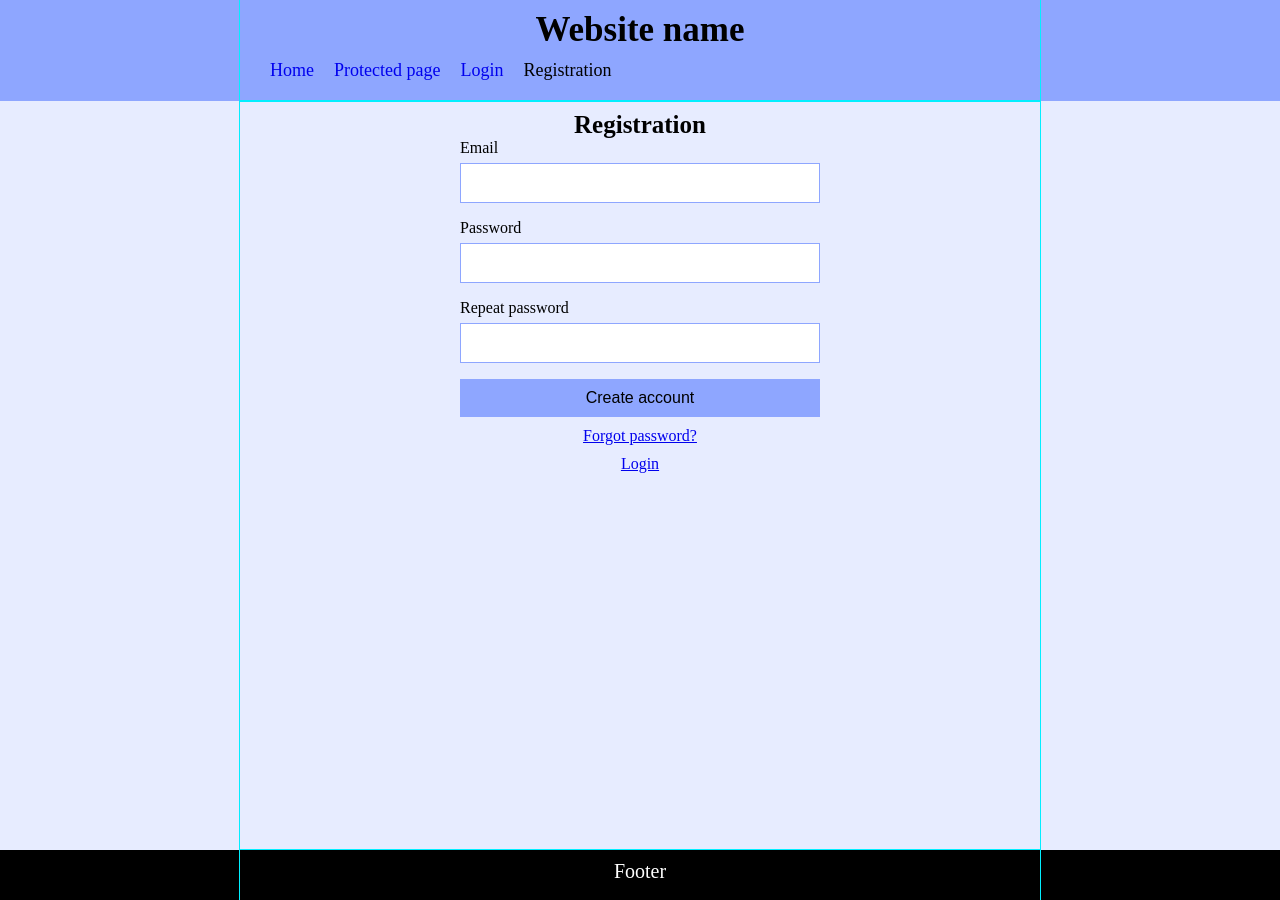
Test: registration confirms the code, signs in, and opens the protected profile
This screenshot has width=1280, height=900.
Step 1. Type "user@example.com" into the field labelled "Email" → (640, 183), box [460,163,820,203]
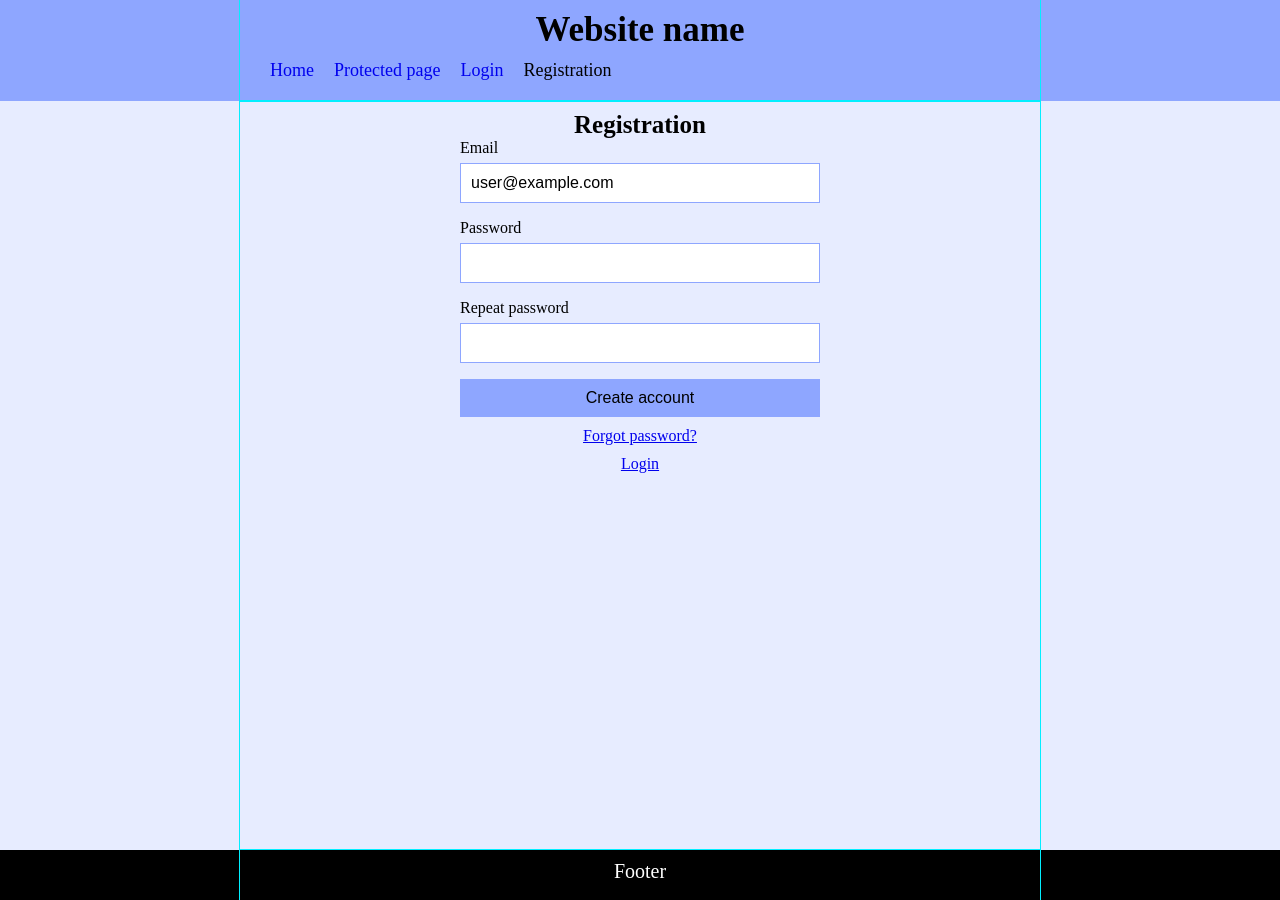
Step 2. Type "password12345" into the password field labelled "Password" → (640, 263), box [460,243,820,283]
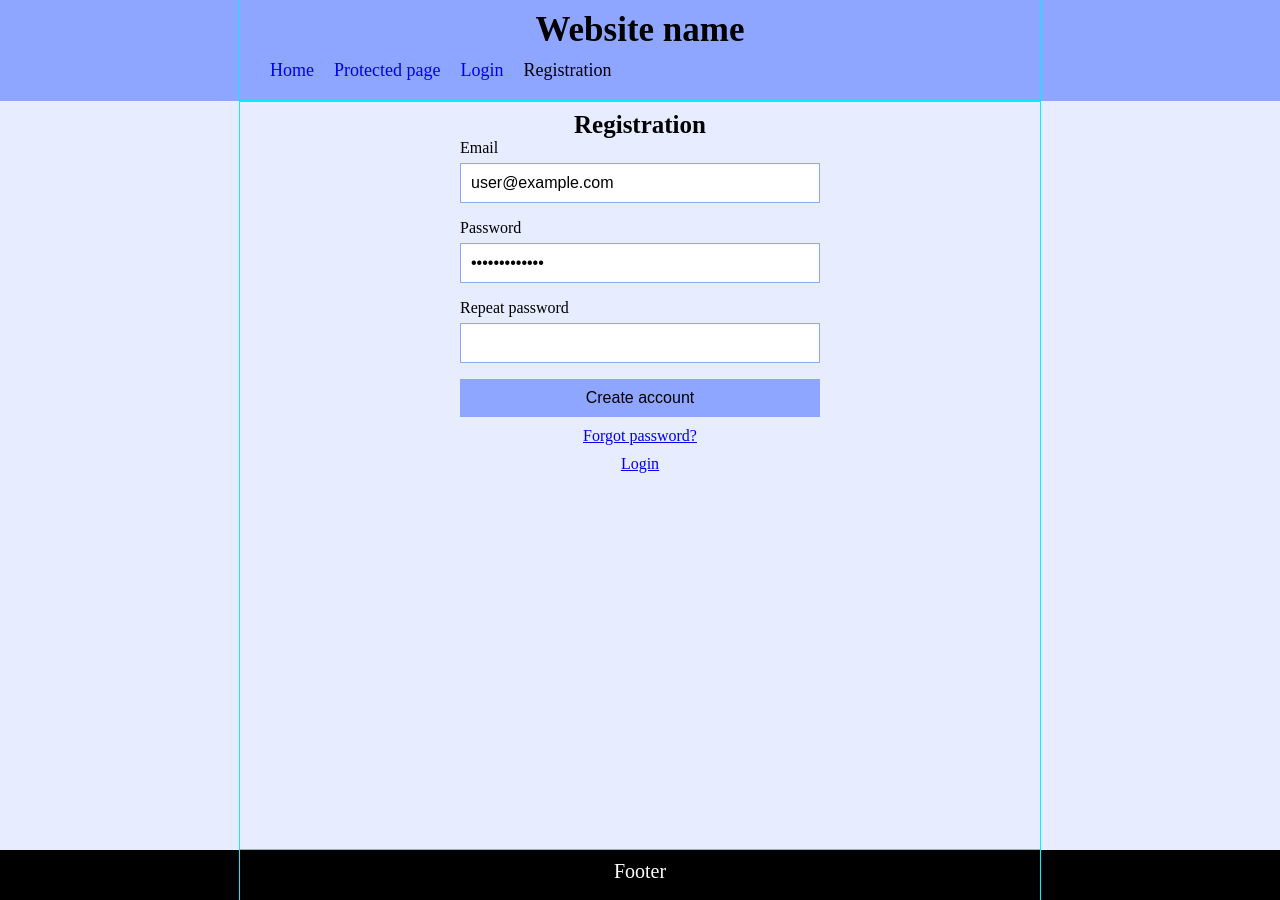
Step 3. Type "password12345" into the password field labelled "Repeat password" → (640, 343), box [460,323,820,363]
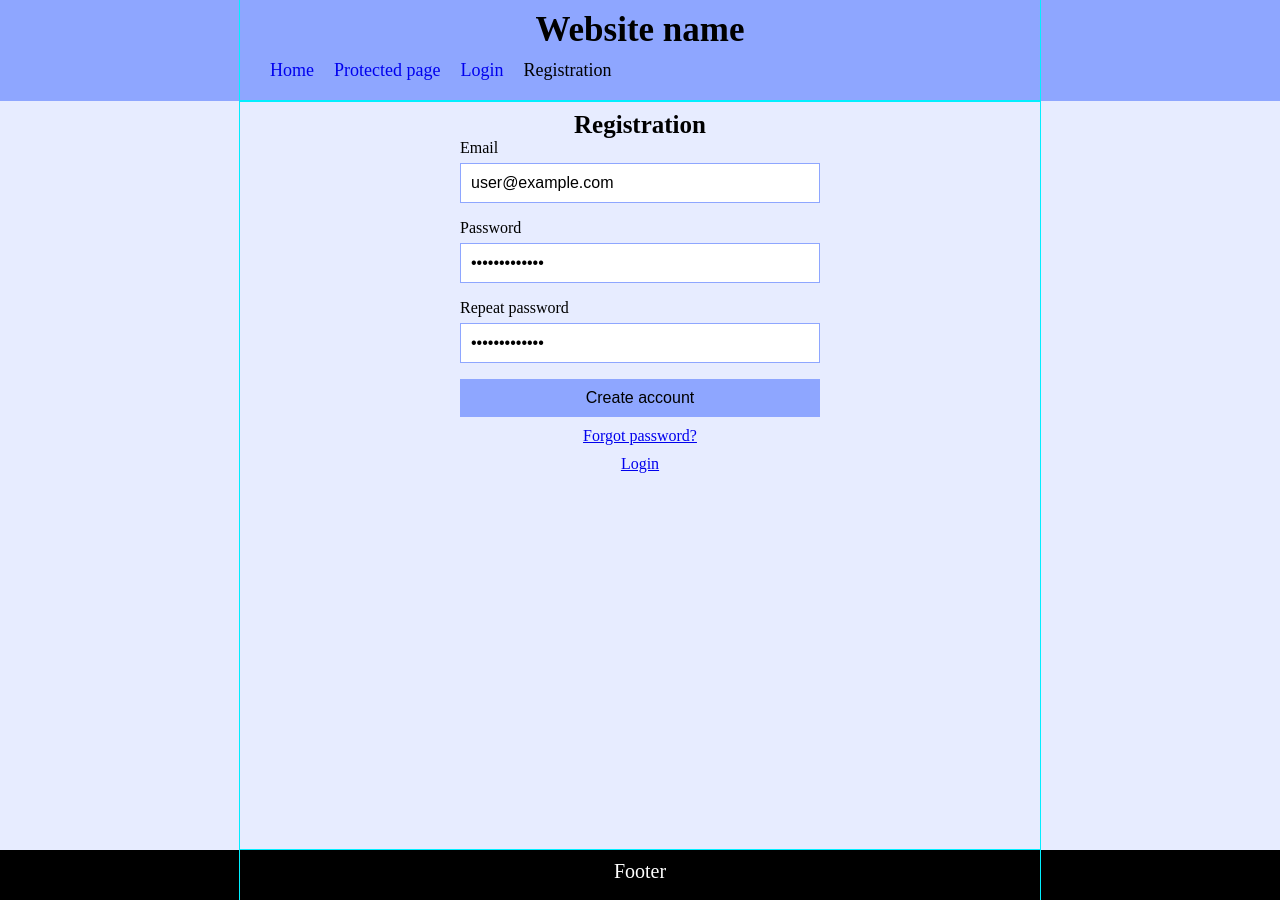
Step 4. Submit the form, box [460,139,820,417]
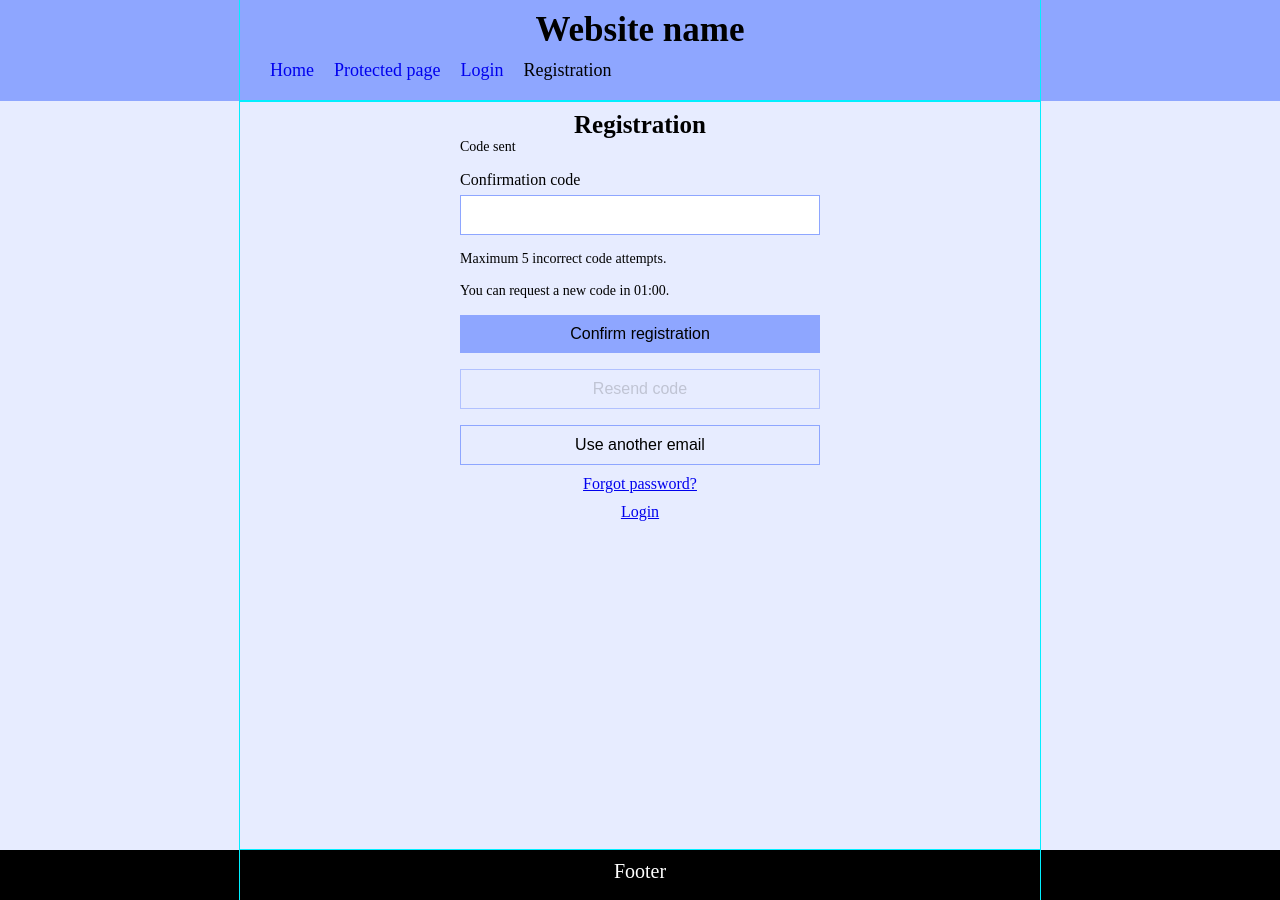
Check: the field labelled "Confirmation code" is shown
Step 5. Type "123456" into the field labelled "Confirmation code" → (640, 215), box [460,195,820,235]
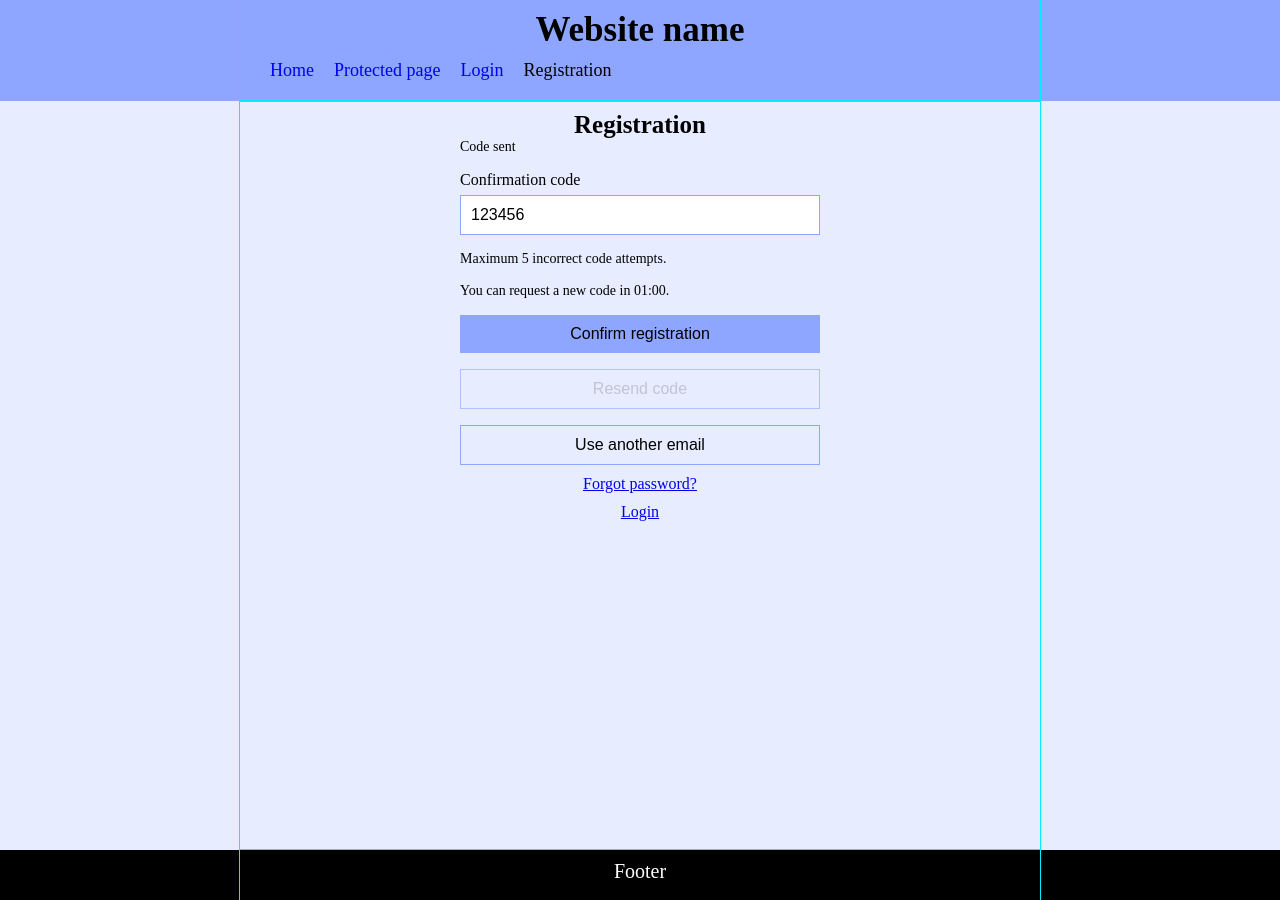
Step 6. Submit the form, box [460,139,820,465]
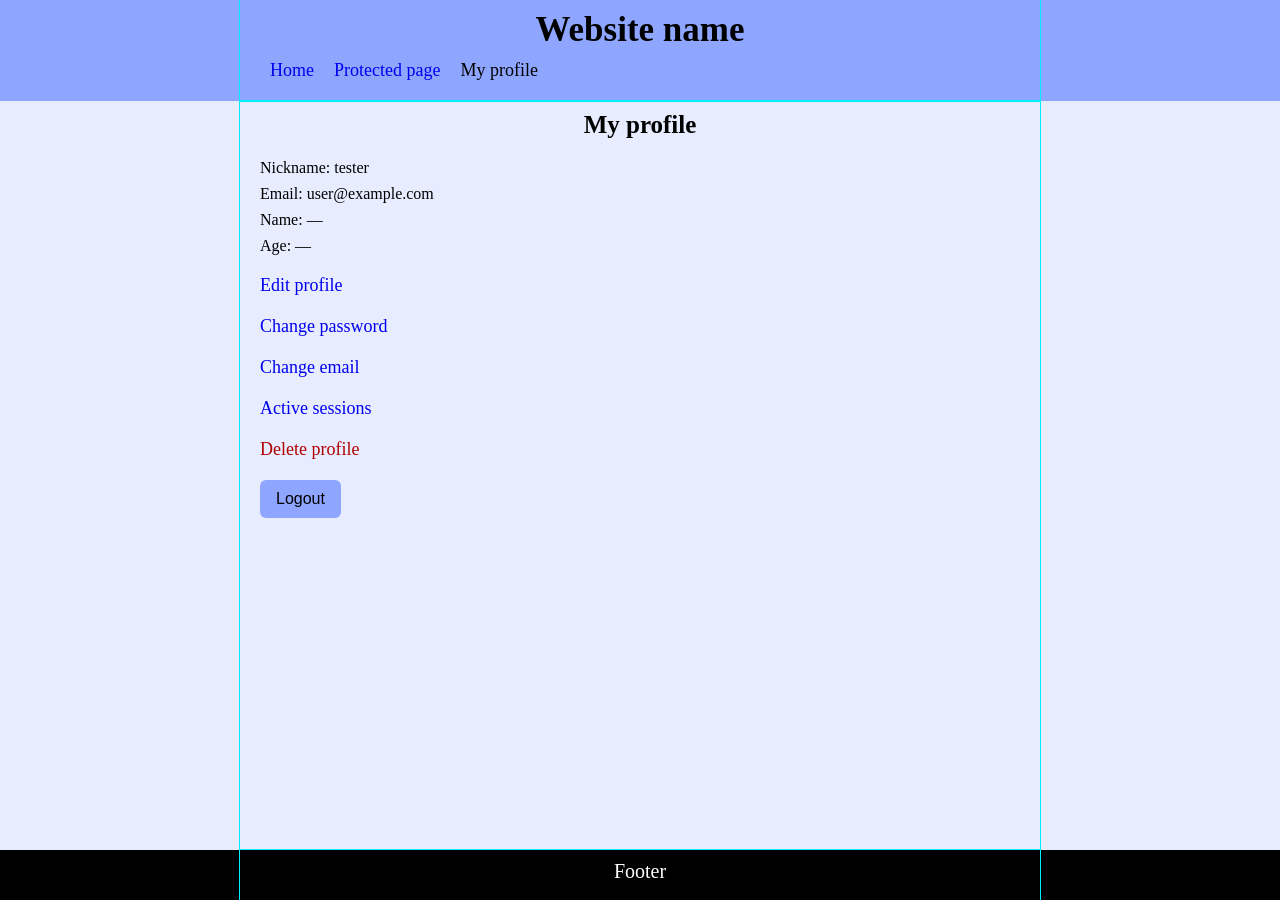
Check: the heading "My profile" is shown, box [584,111,696,138]
